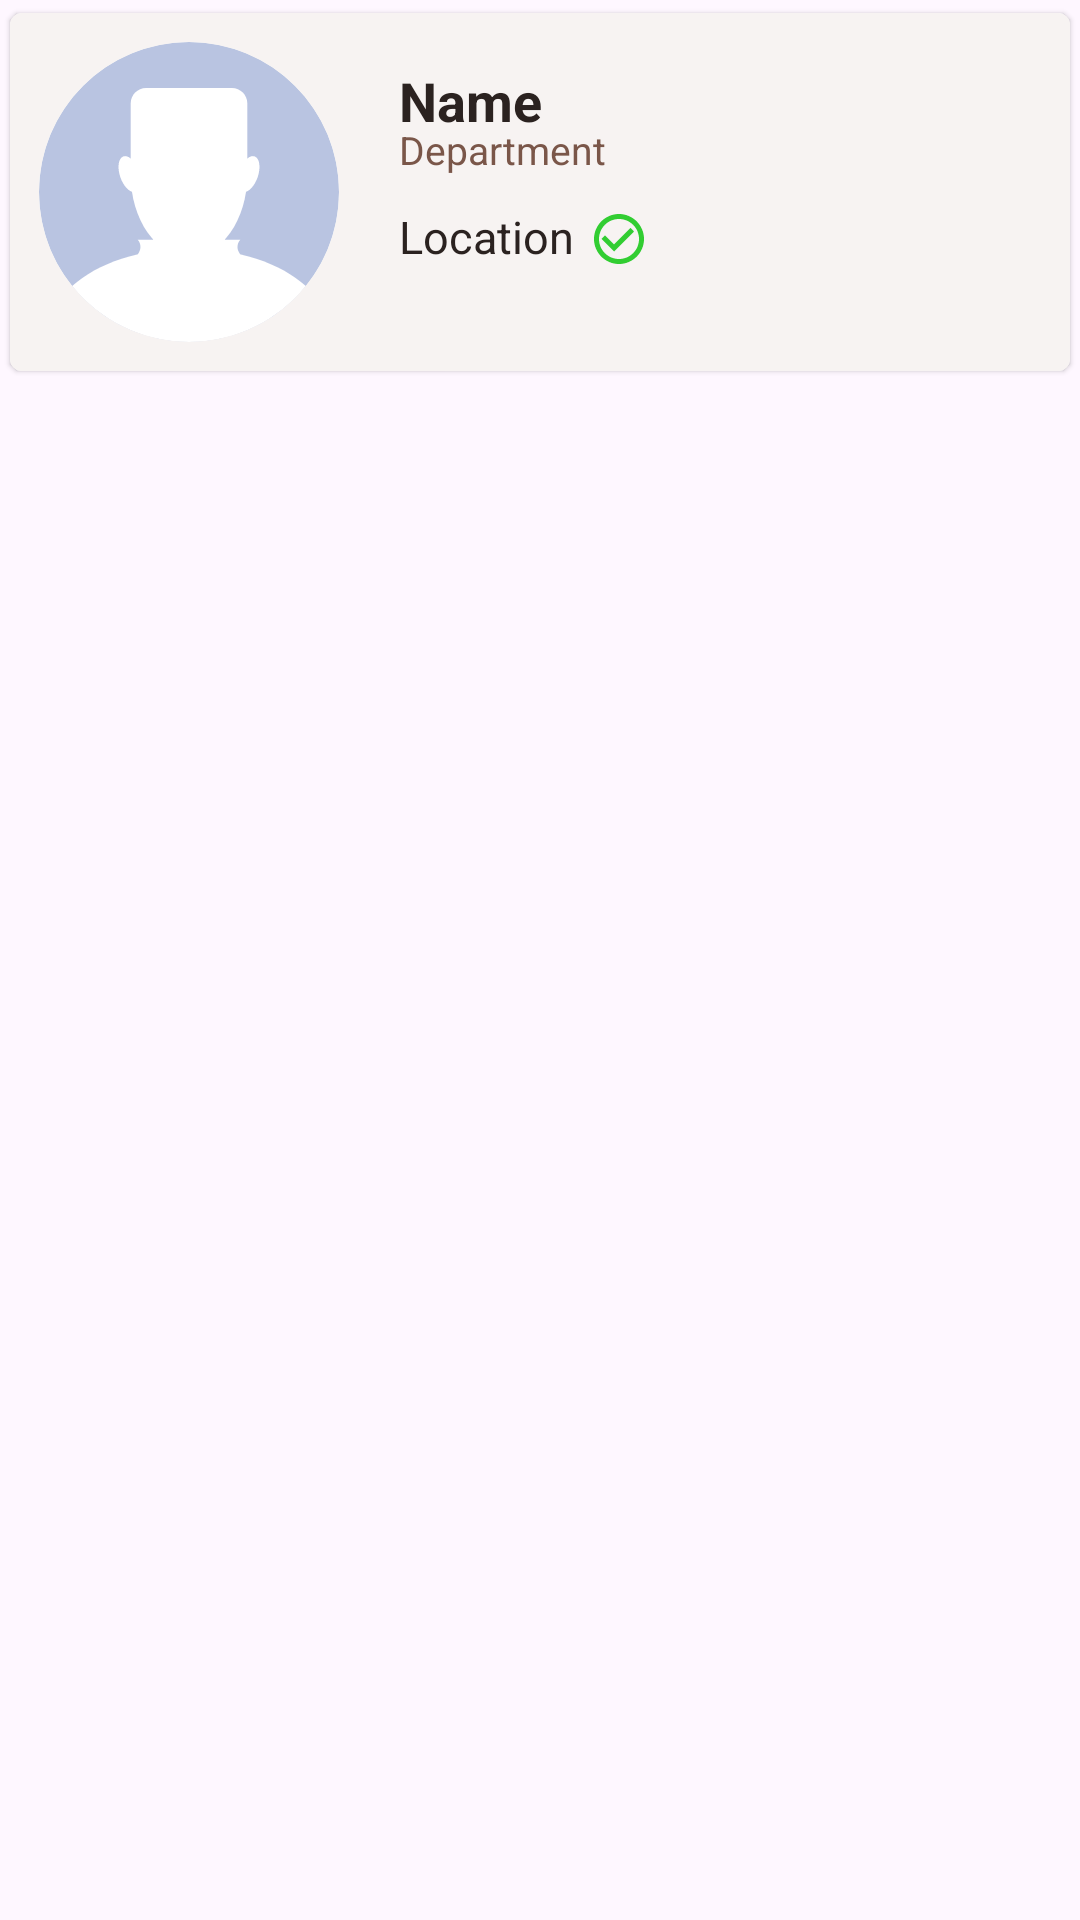

Named icons in this screenshot (1080px×1920px) and their centers, (x,y):
check: (619,239)
user: (189,164)
